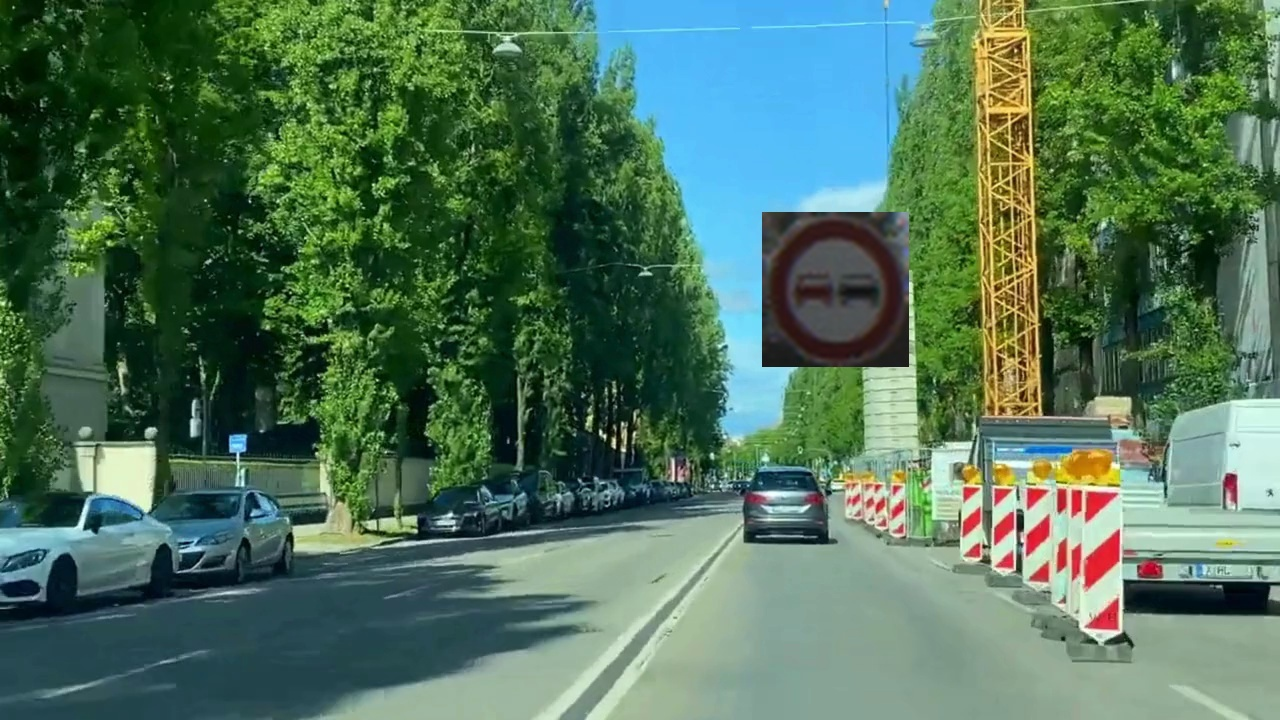No passing: (762, 212, 909, 367)
